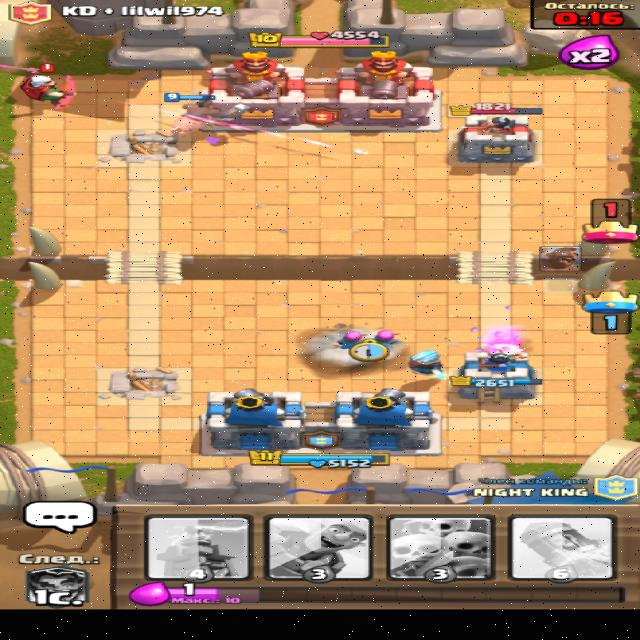Enemy-MagicArcher: (18, 62, 76, 110)
Player-Archer: (332, 329, 369, 349), (370, 328, 402, 347)
Player-HogRider: (160, 91, 251, 138)
Player-IceWizard: (405, 348, 446, 378)
